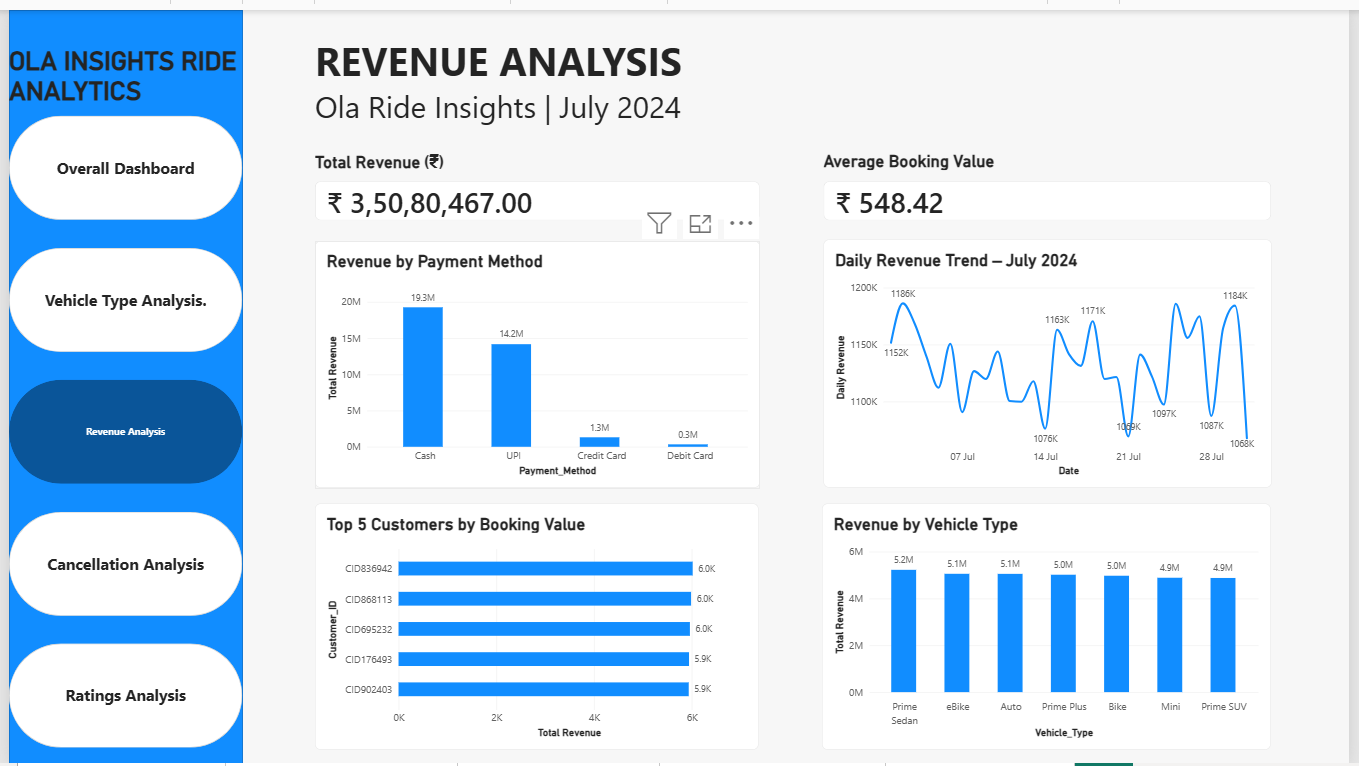

What the dashboard file says about the page in this screenshot:
{"tool":"powerbi","page":{"name":"Revenue Analysis","canvas":[1920,1080],"ordinal":2},"visuals":[{"type":"cardVisual","title":"Total Revenue (₹)","fields":{"Data":["ola_rides_cleaned.Total Revenue"]},"box":[439,202.8,637,100.2],"z":0},{"type":"cardVisual","title":"Average Booking Value","fields":{"Data":["ola_rides_cleaned.Average Booking Value"]},"box":[1166.7,202.8,641.8,100.2],"z":1},{"type":"clusteredColumnChart","title":"Revenue by Payment Method","fields":{"Category":["ola_rides_cleaned.Payment_Method"],"Y":["ola_rides_cleaned.Total Revenue"]},"box":[439,331.6,637,353.1],"z":2},{"type":"lineChart","title":"Daily Revenue Trend – July 2024","fields":{"Category":["ola_rides_cleaned.Date"],"Y":["ola_rides_cleaned.Daily Revenue"]},"box":[1166.7,329.3,641.8,355.5],"z":3},{"type":"clusteredBarChart","title":"Top 5 Customers by Booking Value","fields":{"Category":["ola_rides_cleaned.Customer_ID"],"Y":["ola_rides_cleaned.Total Revenue"]},"box":[439,706.2,635,352.5],"z":4},{"type":"clusteredColumnChart","title":"Revenue by Vehicle Type","fields":{"Category":["ola_rides_cleaned.Vehicle_Type"],"Y":["ola_rides_cleaned.Total Revenue"]},"box":[1164.3,706.2,642.5,352.5],"z":5},{"type":"textbox","box":[439,33.4,1369.5,131.2],"z":6},{"type":"shape","box":[0,0,335,1080],"z":7},{"type":"pageNavigator","title":"OLA INSIGHTS  RIDE ANALYTICS","box":[0,52.5,334,1006.9],"z":8}]}

Visuals, with their boxes in screenshot pixels (x1, y1, x2, y2), scaled from the page's 1920x1080 canvas onto the 1359x766 screenshot:
"Total Revenue (₹)" cardVisual: 311 144 762 215
"Average Booking Value" cardVisual: 826 144 1280 215
"Revenue by Payment Method" clusteredColumnChart: 311 235 762 486
"Daily Revenue Trend – July 2024" lineChart: 826 234 1280 486
"Top 5 Customers by Booking Value" clusteredBarChart: 311 501 760 751
"Revenue by Vehicle Type" clusteredColumnChart: 824 501 1279 751
textbox: 311 24 1280 117
shape: 0 0 237 765
"OLA INSIGHTS  RIDE ANALYTICS" pageNavigator: 0 37 236 751
